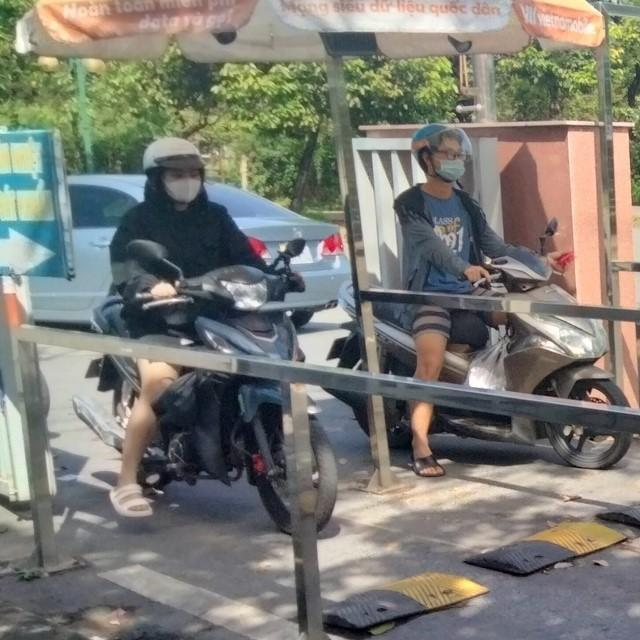Helmet: (142, 134, 208, 213), (412, 120, 476, 192)
